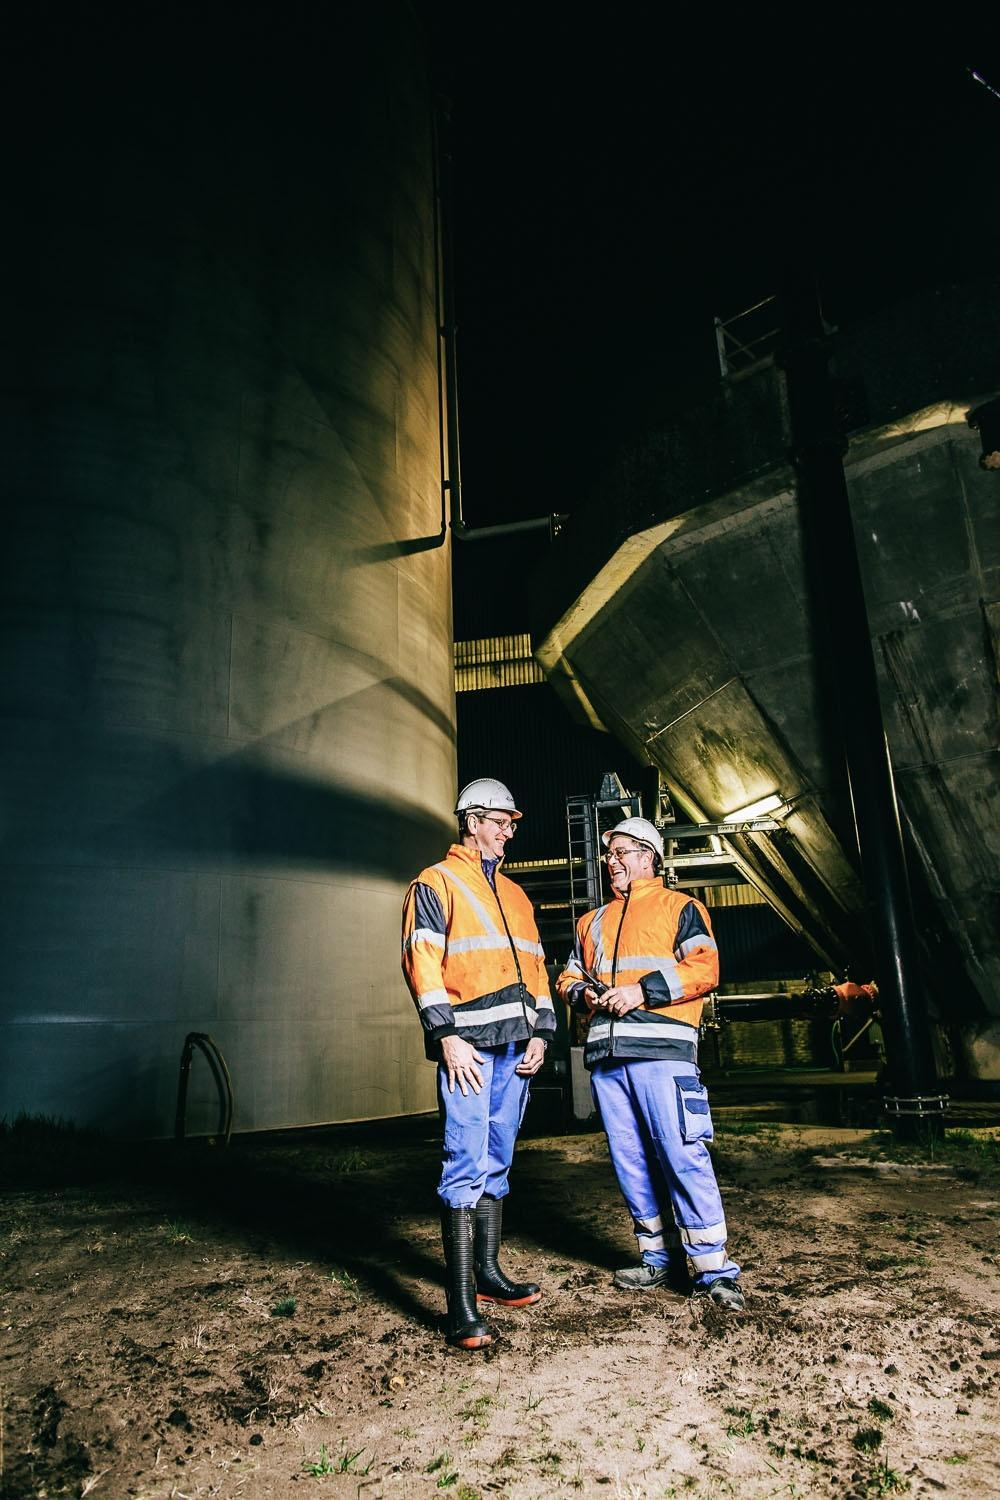person: (391, 771, 568, 1359), (575, 811, 734, 1330)
vest: (418, 851, 558, 1073), (578, 884, 723, 1076)
